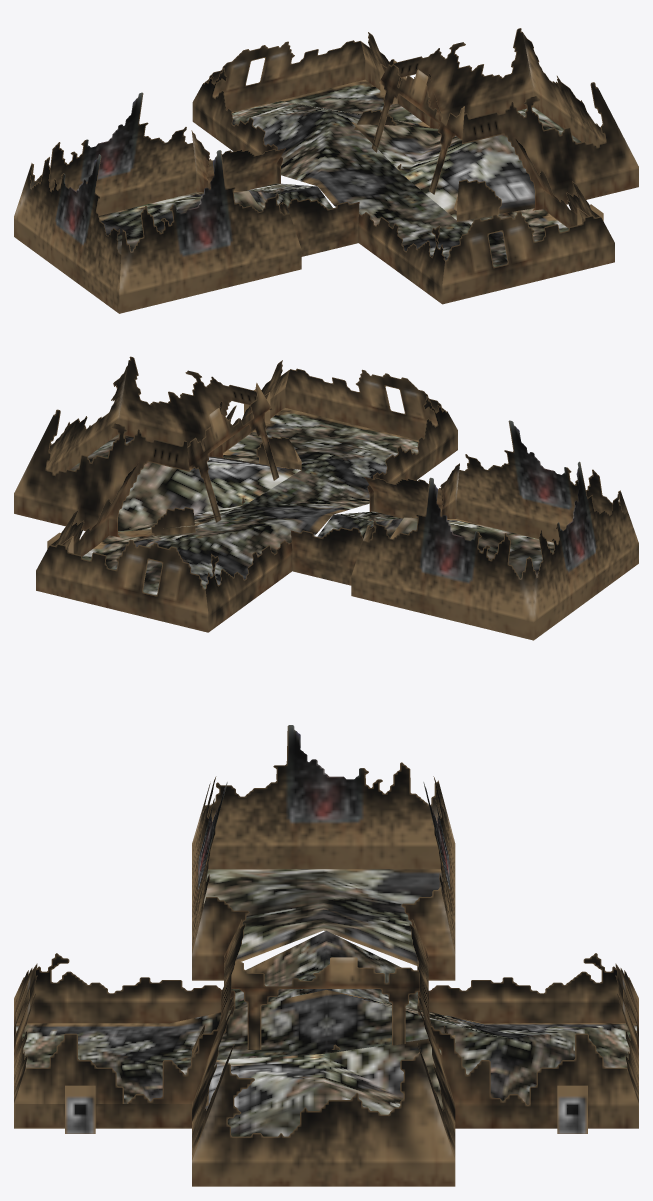
Rendered from hpgstation_dam.glb.
3 renders of one model, top to bottom at view 1: azimuth 30°, elevation 25°; view 2: azimuth 150°, elevation 25°; view 3: azimuth 270°, elevation 25°, orthographic. The views are drawn at different scales.
Visible parts, largest first — view 1: HPGStationInnards; view 2: HPGStationInnards; view 3: HPGStationInnards.
Part boxes in pixels (x1,y1,x2,y2): HPGStationInnards: [14, 28, 638, 313]; HPGStationInnards: [14, 356, 638, 640]; HPGStationInnards: [14, 725, 638, 1186].
Size of the model in its own units: 50.25 by 16.14 by 41.81.
1 material, 1 textured.
